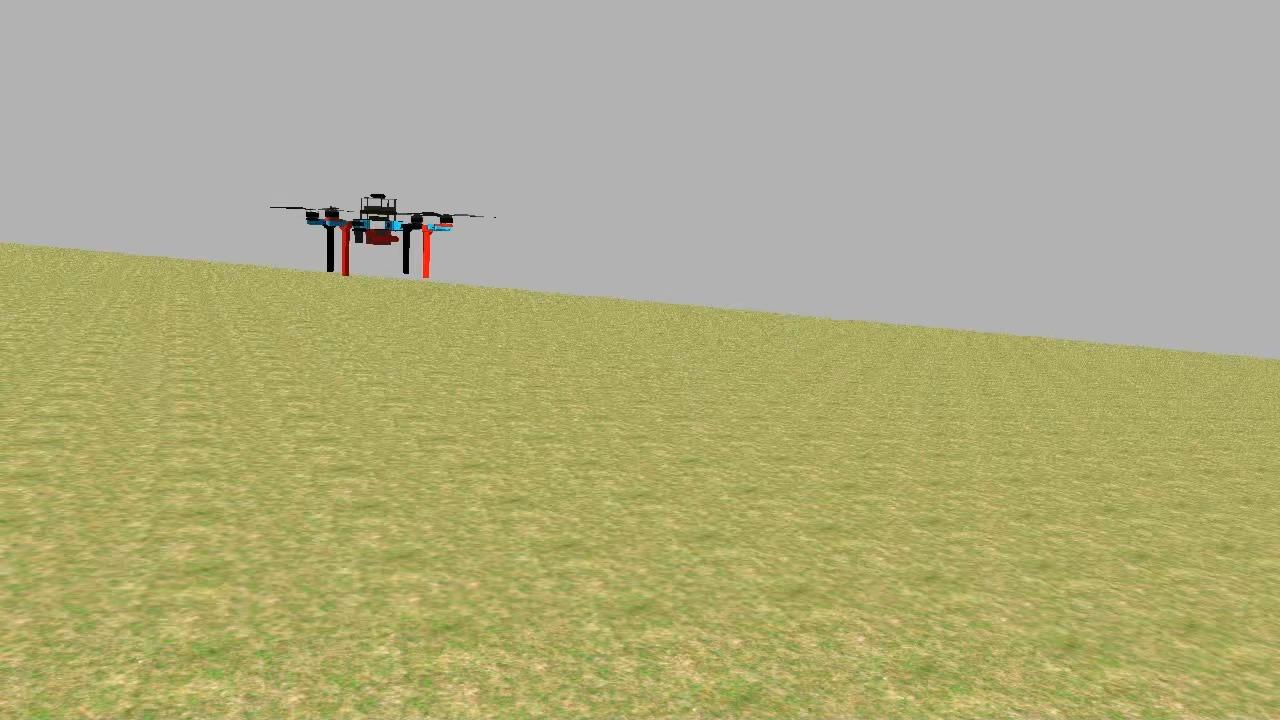UAV: (302, 184, 458, 284)
